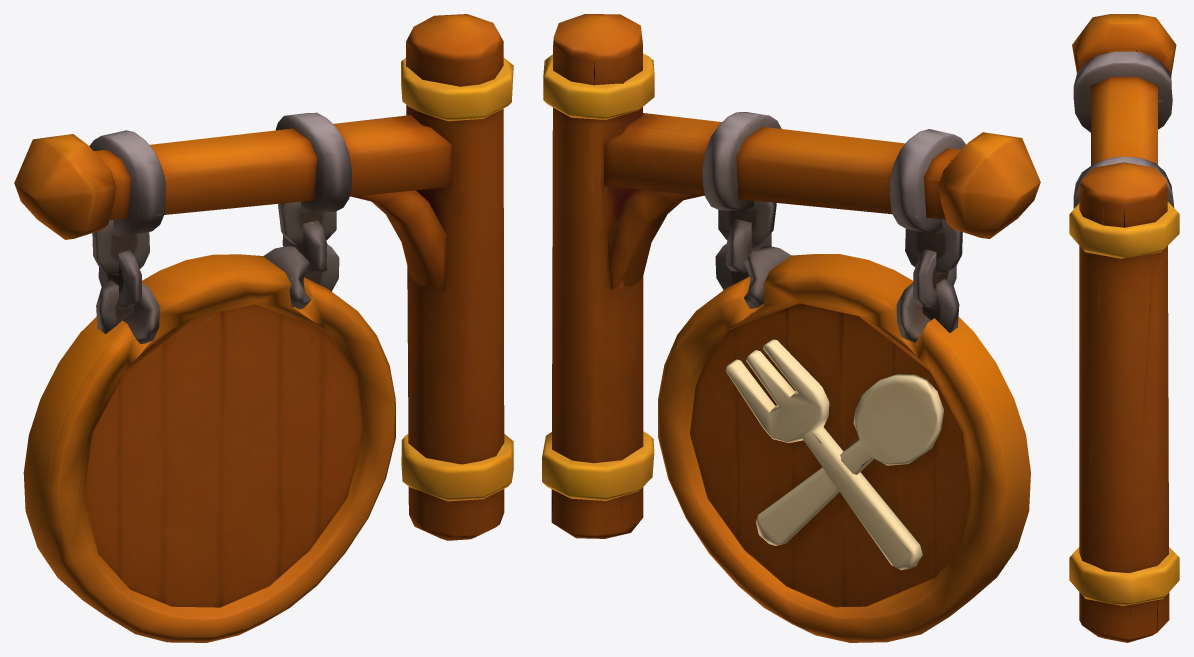
Rendered from sign_spoon.glb.
The picture shows the model from 3 angles, left to right: view 1: azimuth 30°, elevation 25°; view 2: azimuth 150°, elevation 25°; view 3: azimuth 270°, elevation 25°; orthographic projection. The views are drawn at different scales.
Parts seen in each view (by area): view 1: geometry_0; view 2: geometry_0; view 3: geometry_0.
Part boxes in pixels (x1,y1,x2,y2): geometry_0: (14, 14, 513, 642); geometry_0: (542, 14, 1040, 642); geometry_0: (1069, 14, 1179, 642).
Size of the model in its own units: 0.8711 by 0.9521 by 0.1899.
Materials: 1 (1 with a texture image).
